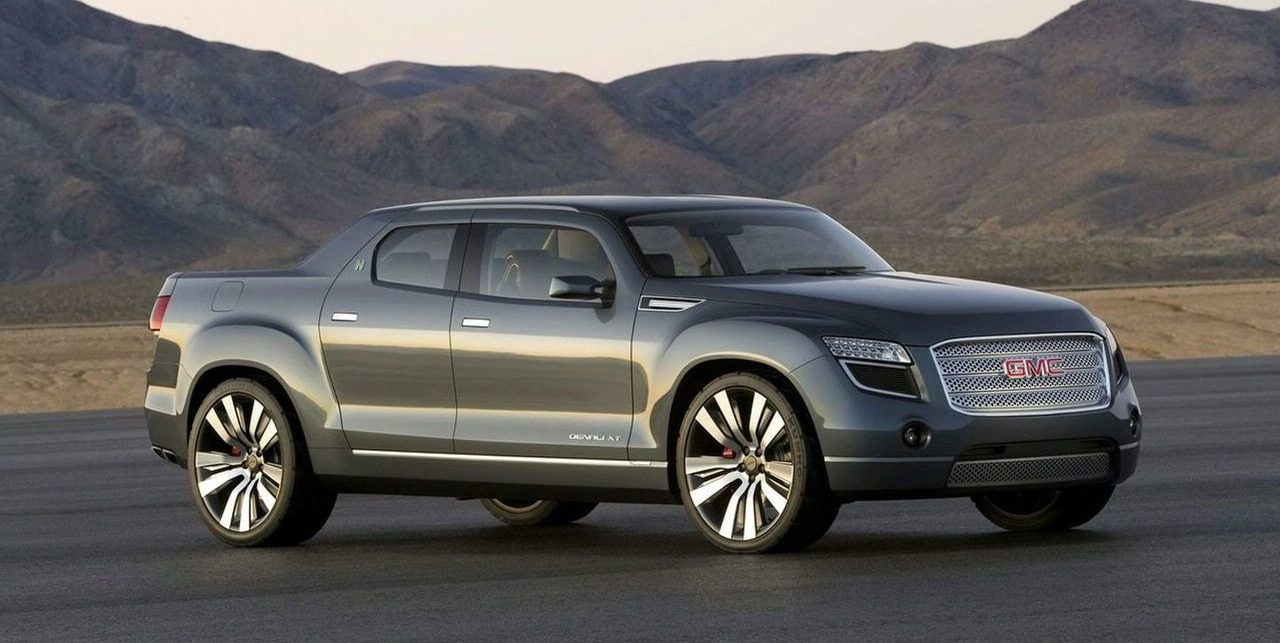Car: (133, 186, 1155, 574)
